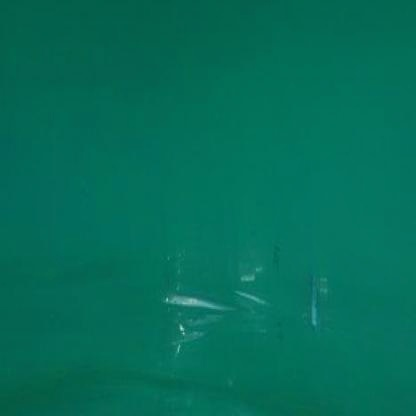pbottle: (157, 241, 335, 367)
